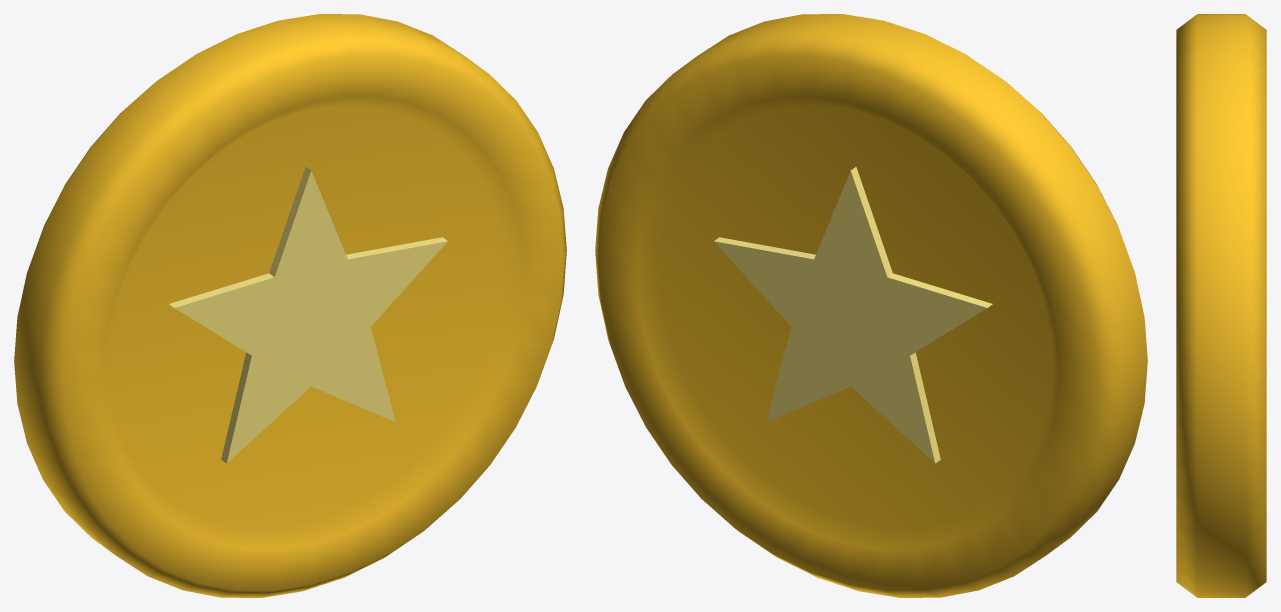
Rendered from ParasolPlummetCoin.obj.
The picture shows the model from 3 angles, left to right: view 1: azimuth 30°, elevation 25°; view 2: azimuth 150°, elevation 25°; view 3: azimuth 270°, elevation 25°; orthographic projection. The views are drawn at different scales.
Visible parts, largest first — view 1: Coin, Emblem; view 2: Coin, Emblem; view 3: Coin.
Part boxes in pixels (x1,y1,x2,y2): Coin: [14, 14, 566, 597]; Emblem: [169, 167, 447, 463]; Coin: [595, 14, 1147, 597]; Emblem: [714, 167, 992, 463]; Coin: [1176, 14, 1266, 597].
Size of the model in its own units: 2.2 by 2.2 by 0.34.
